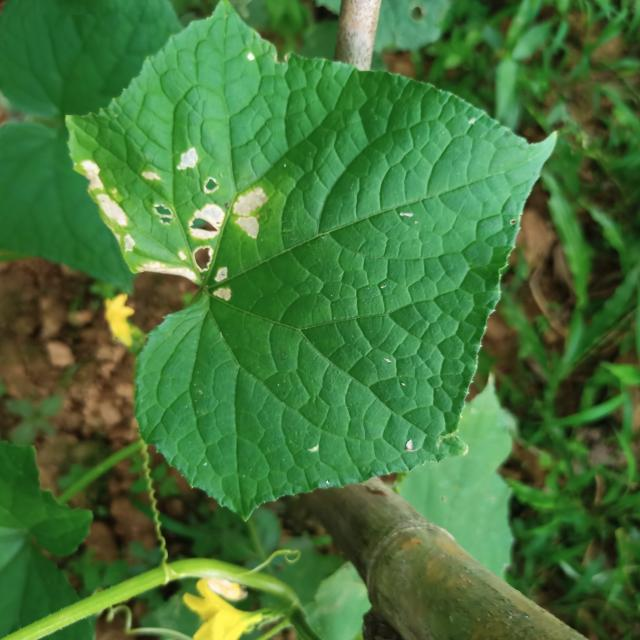disease_cucumber: (80, 146, 268, 299)
